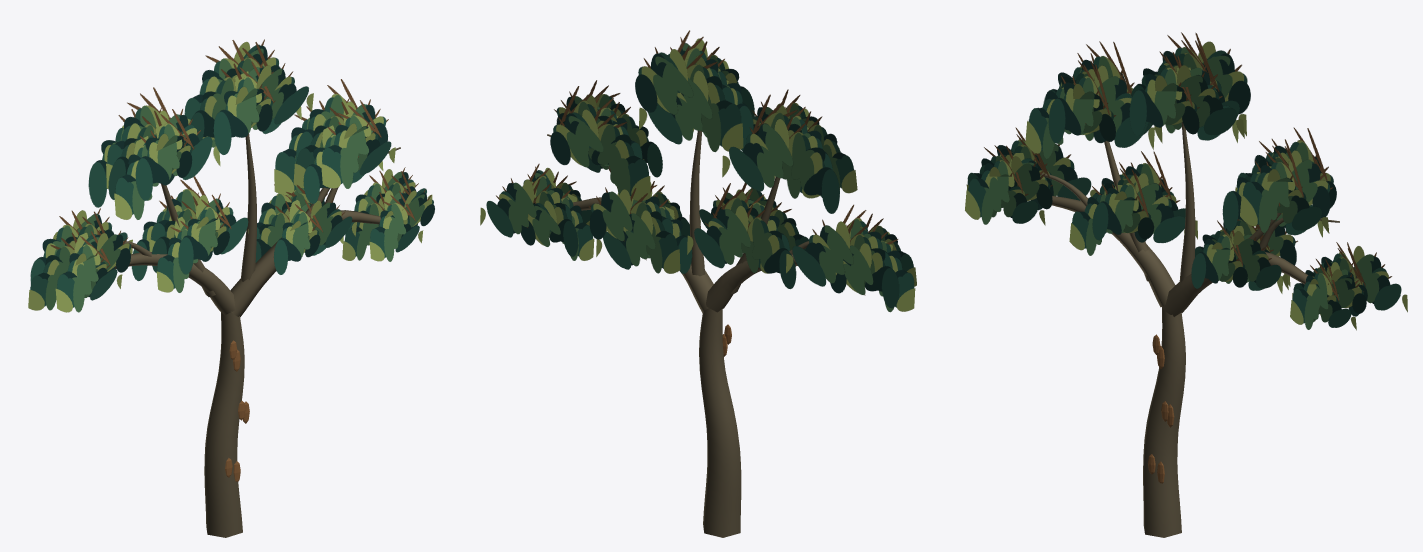
File: TREE_EUCALYPTUS_001_LOD_CLOSE.glb
3 renders of one model, left to right at view 1: azimuth 30°, elevation 25°; view 2: azimuth 150°, elevation 25°; view 3: azimuth 330°, elevation 25°, orthographic. The views are drawn at different scales.
Visible parts, largest first — view 1: GG_EUC_V4_MAIN_TRUNK, GG_EUC_FRONT_ISLAND_03_CLUSTER_02, GG_EUC_FRONT_ISLAND_02_CLUSTER_01, GG_EUC_FRONT_ISLAND_01_CLUSTER_02, GG_EUC_FRONT_ISLAND_00_CLUSTER_01, GG_EUC_FRONT_ISLAND_02_CLUSTER_02, GG_EUC_FRONT_ISLAND_05_CLUSTER_02, GG_EUC_V4_RIGHT_PRIMARY, GG_EUC_BODY_ISLAND_00_CLUSTER_00, GG_EUC_FRONT_ISLAND_04_CLUSTER_01, GG_EUC_FRONT_ISLAND_06_CLUSTER_01, GG_EUC_FRONT_ISLAND_01_CLUSTER_00 (+32 smaller); view 2: GG_EUC_V4_MAIN_TRUNK, GG_EUC_REAR_ISLAND_01_CLUSTER_01, GG_EUC_REAR_ISLAND_00_CLUSTER_02, GG_EUC_REAR_ISLAND_02_CLUSTER_02, GG_EUC_REAR_ISLAND_03_CLUSTER_00, GG_EUC_REAR_ISLAND_05_CLUSTER_01, GG_EUC_REAR_ISLAND_02_CLUSTER_00, GG_EUC_REAR_ISLAND_02_CLUSTER_01, GG_EUC_REAR_ISLAND_01_CLUSTER_00, GG_EUC_REAR_ISLAND_03_CLUSTER_01, GG_EUC_REAR_ISLAND_04_CLUSTER_02, GG_EUC_REAR_ISLAND_06_CLUSTER_00 (+27 smaller); view 3: GG_EUC_V4_MAIN_TRUNK, GG_EUC_FRONT_ISLAND_03_CLUSTER_02, GG_EUC_FRONT_ISLAND_02_CLUSTER_01, GG_EUC_FRONT_ISLAND_01_CLUSTER_02, GG_EUC_FRONT_ISLAND_00_CLUSTER_01, GG_EUC_FRONT_ISLAND_02_CLUSTER_02, GG_EUC_BODY_ISLAND_01_CLUSTER_02, GG_EUC_FRONT_ISLAND_05_CLUSTER_02, GG_EUC_V4_LEFT_PRIMARY, GG_EUC_BODY_ISLAND_05_CLUSTER_02, GG_EUC_REAR_ISLAND_04_CLUSTER_02, GG_EUC_REAR_ISLAND_02_CLUSTER_02 (+26 smaller).
Part boxes in pixels (x1,y1,x2,y2): GG_EUC_V4_MAIN_TRUNK: [204, 312, 244, 537]; GG_EUC_FRONT_ISLAND_03_CLUSTER_02: [321, 100, 381, 188]; GG_EUC_FRONT_ISLAND_02_CLUSTER_01: [213, 61, 273, 154]; GG_EUC_FRONT_ISLAND_01_CLUSTER_02: [135, 109, 193, 200]; GG_EUC_FRONT_ISLAND_00_CLUSTER_01: [55, 231, 110, 312]; GG_EUC_FRONT_ISLAND_02_CLUSTER_02: [256, 63, 313, 124]; GG_EUC_FRONT_ISLAND_05_CLUSTER_02: [178, 194, 231, 274]; GG_EUC_V4_RIGHT_PRIMARY: [230, 210, 380, 317]; GG_EUC_BODY_ISLAND_00_CLUSTER_00: [28, 232, 76, 310]; GG_EUC_FRONT_ISLAND_04_CLUSTER_01: [369, 191, 415, 261]; GG_EUC_FRONT_ISLAND_06_CLUSTER_01: [273, 199, 322, 274]; GG_EUC_FRONT_ISLAND_01_CLUSTER_00: [114, 130, 158, 219]; GG_EUC_V4_MAIN_TRUNK: [699, 308, 741, 537]; GG_EUC_REAR_ISLAND_01_CLUSTER_01: [722, 117, 793, 191]; GG_EUC_REAR_ISLAND_00_CLUSTER_02: [786, 219, 853, 286]; GG_EUC_REAR_ISLAND_02_CLUSTER_02: [635, 47, 693, 114]; GG_EUC_REAR_ISLAND_03_CLUSTER_00: [594, 108, 650, 200]; GG_EUC_REAR_ISLAND_05_CLUSTER_01: [687, 204, 750, 268]; GG_EUC_REAR_ISLAND_02_CLUSTER_00: [639, 70, 712, 144]; GG_EUC_REAR_ISLAND_02_CLUSTER_01: [682, 46, 743, 152]; GG_EUC_REAR_ISLAND_01_CLUSTER_00: [787, 116, 839, 213]; GG_EUC_REAR_ISLAND_03_CLUSTER_01: [550, 107, 603, 167]; GG_EUC_REAR_ISLAND_04_CLUSTER_02: [480, 178, 536, 237]; GG_EUC_REAR_ISLAND_06_CLUSTER_00: [596, 210, 655, 269]; GG_EUC_V4_MAIN_TRUNK: [1143, 306, 1185, 537]; GG_EUC_FRONT_ISLAND_03_CLUSTER_02: [1240, 149, 1303, 232]; GG_EUC_FRONT_ISLAND_02_CLUSTER_01: [1129, 55, 1192, 135]; GG_EUC_FRONT_ISLAND_01_CLUSTER_02: [1048, 64, 1109, 143]; GG_EUC_FRONT_ISLAND_00_CLUSTER_01: [965, 149, 1022, 224]; GG_EUC_FRONT_ISLAND_02_CLUSTER_02: [1177, 65, 1244, 138]; GG_EUC_BODY_ISLAND_01_CLUSTER_02: [1094, 65, 1154, 149]; GG_EUC_FRONT_ISLAND_05_CLUSTER_02: [1092, 172, 1148, 240]; GG_EUC_V4_LEFT_PRIMARY: [1051, 196, 1175, 307]; GG_EUC_BODY_ISLAND_05_CLUSTER_02: [1135, 173, 1185, 242]; GG_EUC_REAR_ISLAND_04_CLUSTER_02: [1353, 246, 1407, 312]; GG_EUC_REAR_ISLAND_02_CLUSTER_02: [1198, 41, 1250, 113].
Size of the model in its own units: 6.46 by 7.16 by 0.8615.
Materials: 3 (1 with a texture image).
